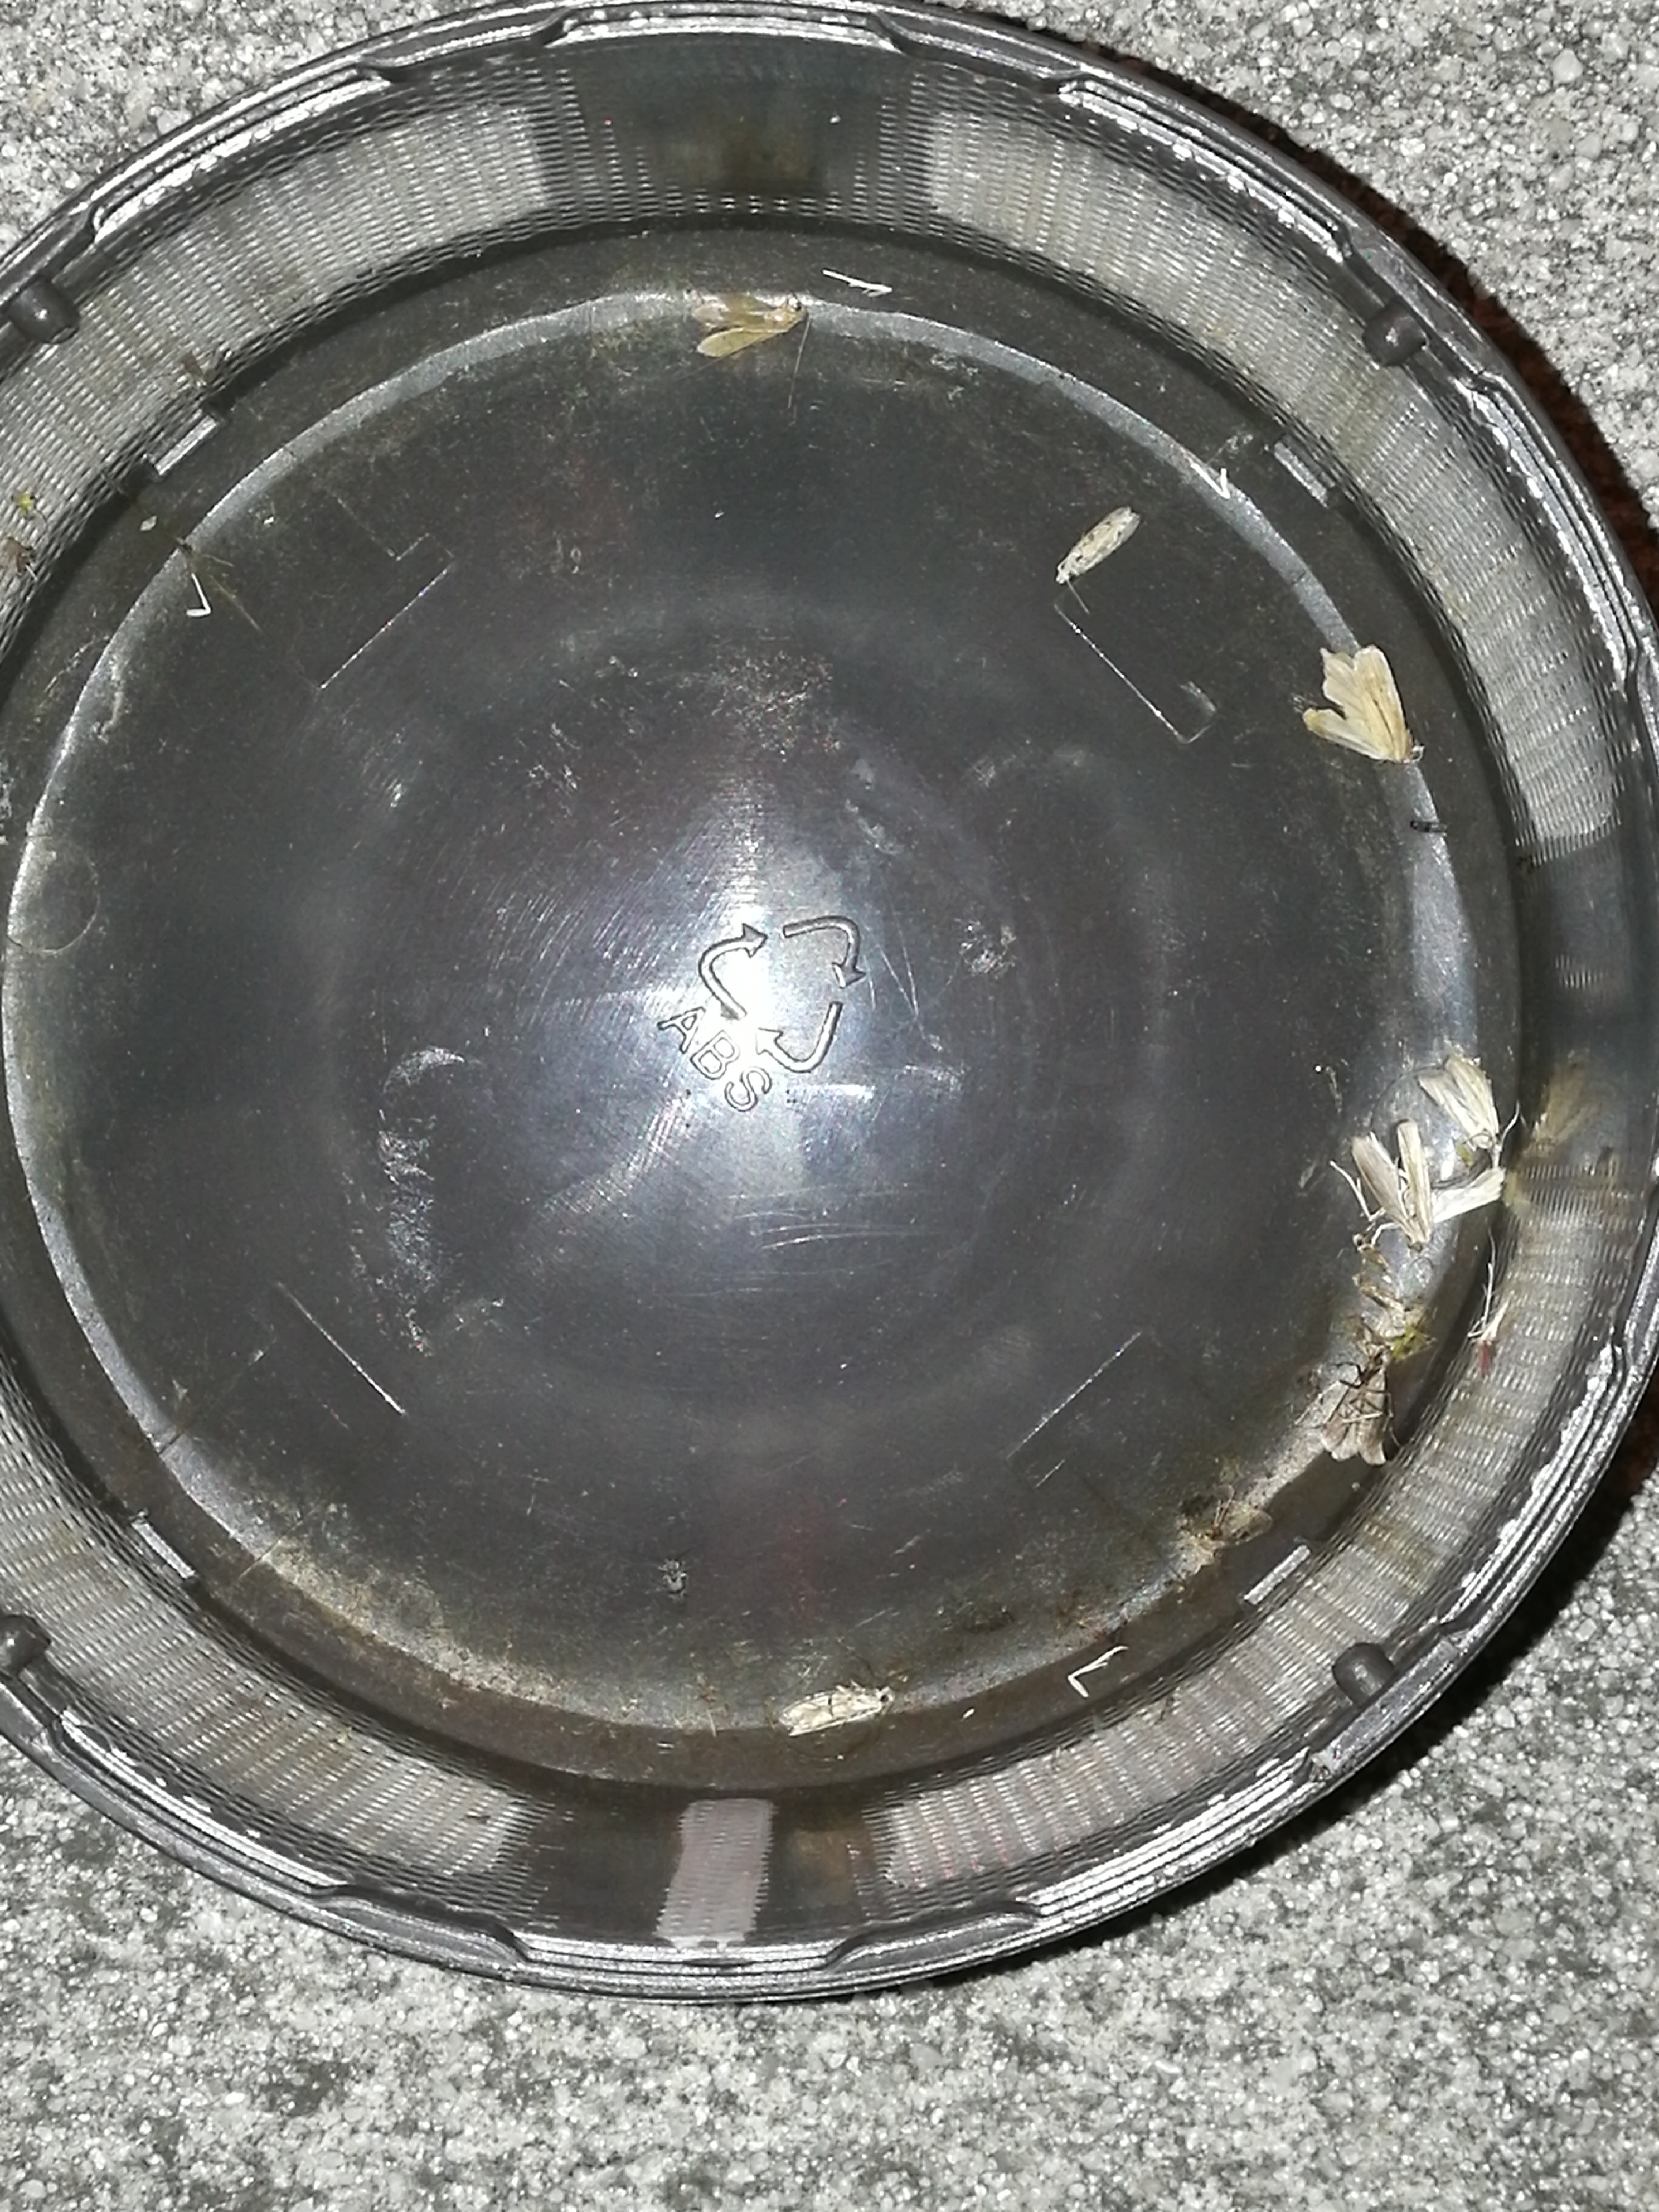mosquito: (1054, 507, 1141, 583), (779, 1688, 894, 1737), (1429, 1169, 1502, 1223)
moth: (1302, 644, 1413, 761), (1293, 1352, 1385, 1465), (1351, 1122, 1431, 1249), (1417, 1055, 1500, 1148), (695, 293, 807, 357)
